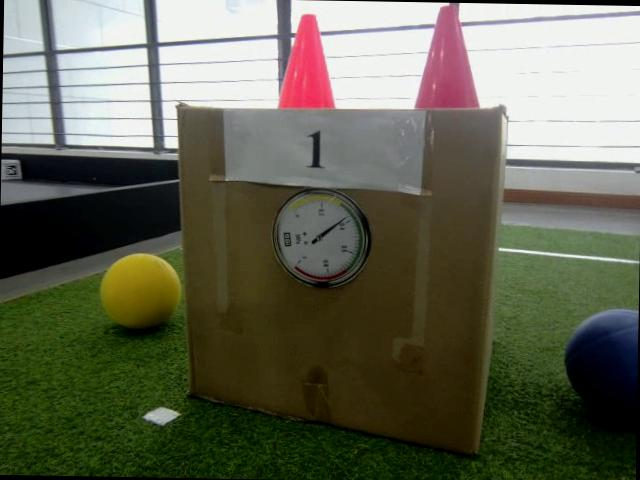1: (302, 126, 328, 170)
Dashboard: (270, 186, 374, 289)
blue_ball: (563, 308, 639, 414)
orange_barrel: (272, 10, 338, 110)
red_barrel: (410, 4, 482, 110)
ssi: (280, 230, 292, 248)
yellow_ball: (97, 252, 182, 332)
